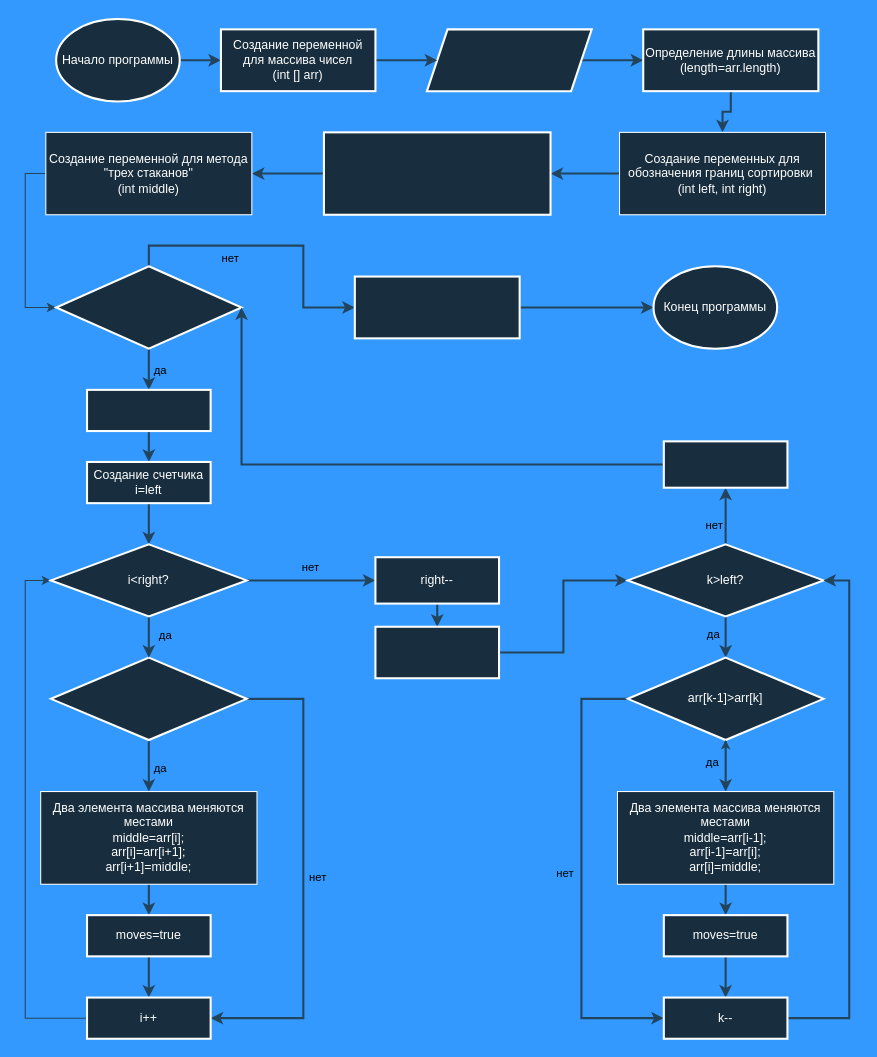
The diagram is 877 pixels wide and 1057 high, and some of its shapes have lost their labels. Here are the shapes that lost their labels. From the top down, the centre of each, then its label:
point 508,60: Ввод массива чисел
point 436,173: Создание переменной "флага" наличия перемещений в массиве (boolean moves)
point 148,307: left<right&&moves=true?
point 436,307: Вывод отсортированного массива
point 148,410: moves=false
point 725,464: left++
point 437,652: Создание счетчика k=right
point 148,698: arr[i]>arr[i+1]
